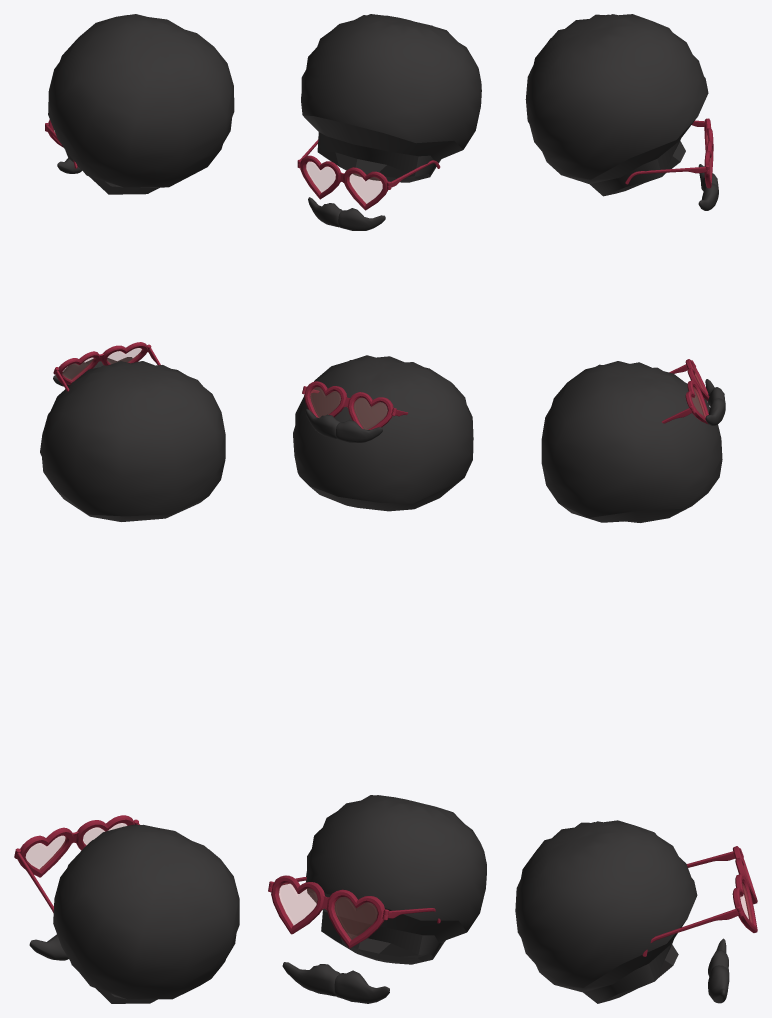
Rendered from DisguisePack.fbx.
3 views of the same model, side by side, from view 1: azimuth 30°, elevation 25°; view 2: azimuth 150°, elevation 25°; view 3: azimuth 270°, elevation 25° (orthographic). The views are drawn at different scales.
Visible parts, largest first — view 1: Afro (×2), droppedDisguise, glassesFrame, glass1, pasted__stache; view 2: Afro (×2), droppedDisguise, glassesFrame (×2), glass1 (×2), pasted__stache, moustache; view 3: Afro (×2), droppedDisguise, glassesFrame, pasted__stache, glassesArmR, moustache.
Part boxes in pixels (x1=…): Afro (×2): x1=48, y1=14, x2=239, y2=1003; droppedDisguise: x1=40, y1=342, x2=225, y2=521; glassesFrame: x1=20, y1=815, x2=134, y2=877; glass1: x1=26, y1=823, x2=126, y2=870; pasted__stache: x1=29, y1=934, x2=68, y2=960; Afro (×2): x1=301, y1=14, x2=486, y2=964; droppedDisguise: x1=293, y1=355, x2=473, y2=511; glassesFrame (×2): x1=271, y1=155, x2=387, y2=948; glass1 (×2): x1=278, y1=162, x2=382, y2=939; pasted__stache: x1=282, y1=962, x2=389, y2=1003; moustache: x1=308, y1=197, x2=385, y2=230; Afro (×2): x1=515, y1=14, x2=708, y2=1003; droppedDisguise: x1=541, y1=359, x2=725, y2=522; glassesFrame: x1=732, y1=846, x2=757, y2=932; pasted__stache: x1=708, y1=938, x2=729, y2=1003; glassesArmR: x1=642, y1=905, x2=743, y2=956; moustache: x1=698, y1=164, x2=718, y2=210.
Bounding box in the file's own units: 3.15 × 18.01 × 4.07.
